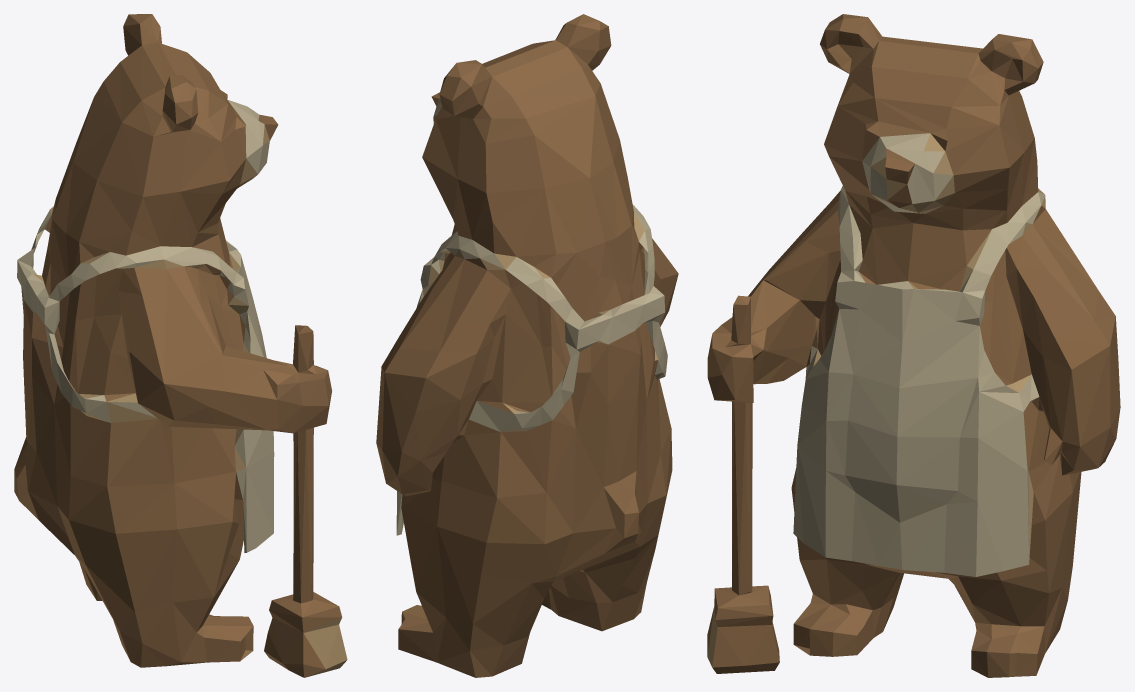
3 views of the same model, side by side, from view 1: azimuth 30°, elevation 25°; view 2: azimuth 150°, elevation 25°; view 3: azimuth 270°, elevation 25° (orthographic). The views are drawn at different scales.
Size of the model in its own units: 0.4199 by 1 by 0.6147.
